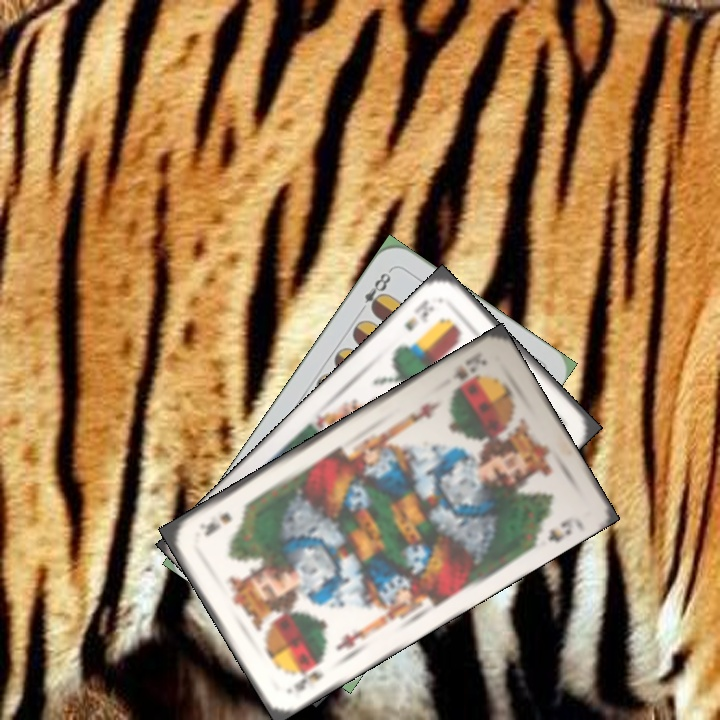E8: (354, 265, 395, 317)
EK: (400, 295, 437, 334)
SK: (448, 348, 491, 384), (288, 656, 327, 695)
